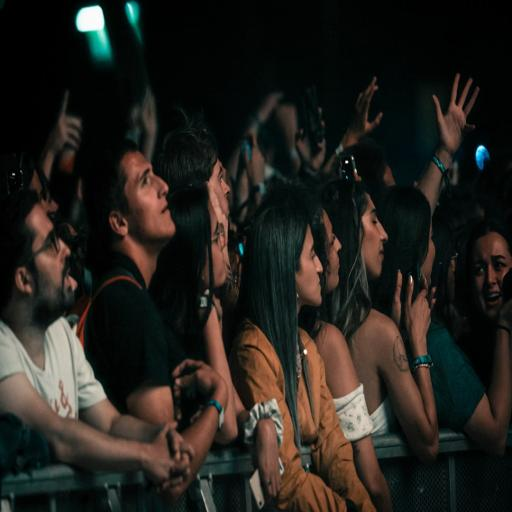face: (26, 204, 75, 328), (120, 151, 176, 247), (470, 232, 512, 320), (296, 225, 324, 310), (361, 194, 388, 282), (203, 201, 227, 289), (323, 210, 341, 294), (208, 159, 230, 218)
